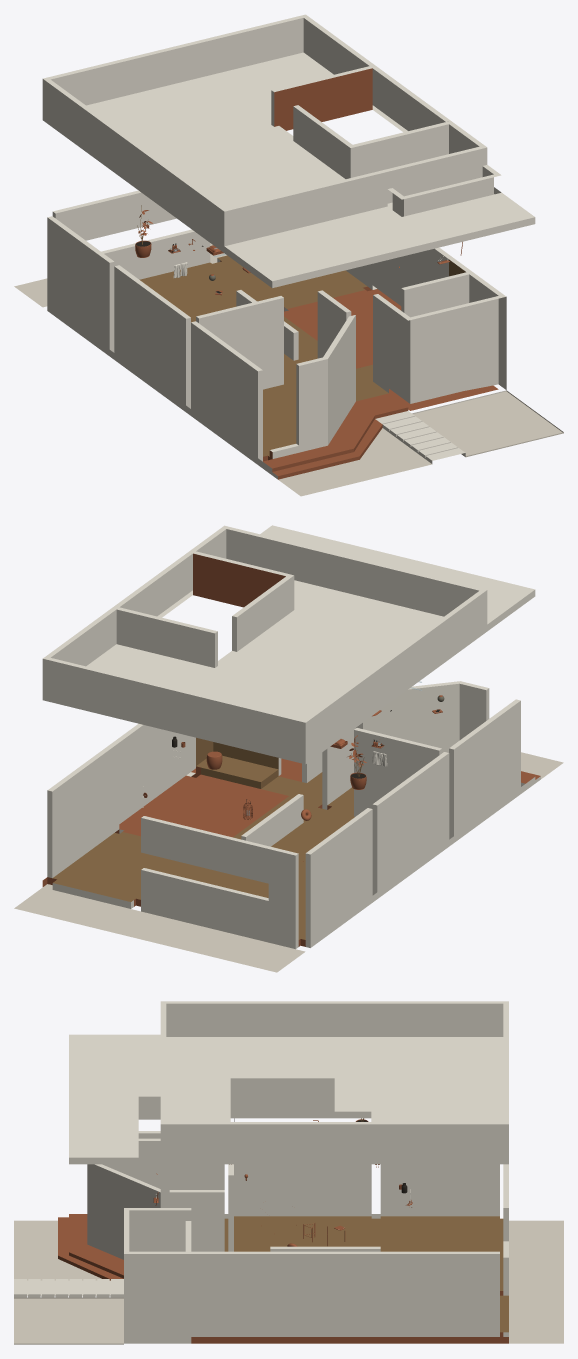
The model's file is amawi.glb.
3 views of the same model, one above another, from view 1: azimuth 30°, elevation 25°; view 2: azimuth 150°, elevation 25°; view 3: azimuth 270°, elevation 25° (orthographic). The views are drawn at different scales.
Parts seen in each view (by area): view 1: object 3, object 1; view 2: object 3, object 1; view 3: object 3, object 1.
Part boxes in pixels (bbox=[...]): object 3: bbox=[14, 14, 563, 496]; object 1: bbox=[135, 68, 498, 479]; object 3: bbox=[14, 525, 563, 972]; object 1: bbox=[42, 553, 540, 946]; object 3: bbox=[14, 1001, 563, 1344]; object 1: bbox=[58, 1119, 508, 1343].
Size of the model in its own units: 7.94 by 6.63 by 15.
